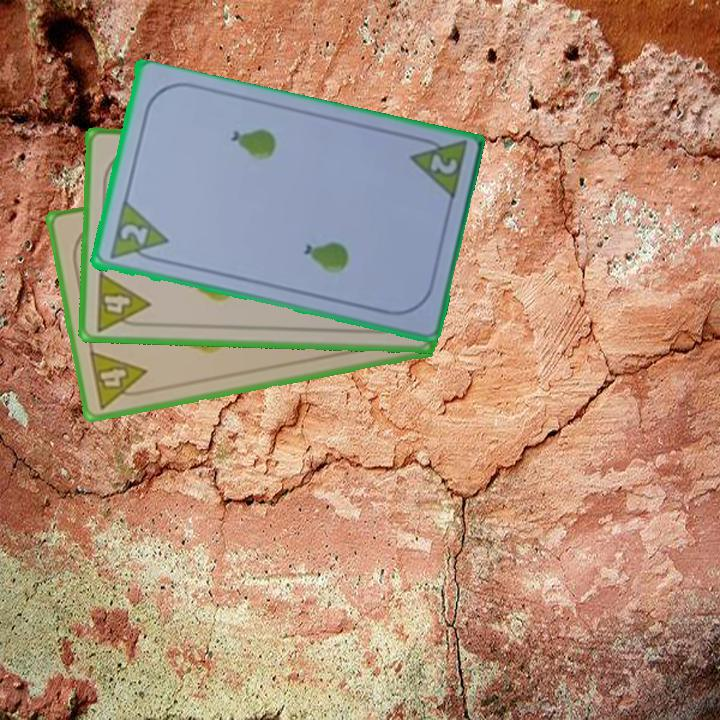2p: (116, 220, 151, 249), (425, 151, 460, 178)
4p: (86, 347, 153, 411), (92, 269, 153, 334)
